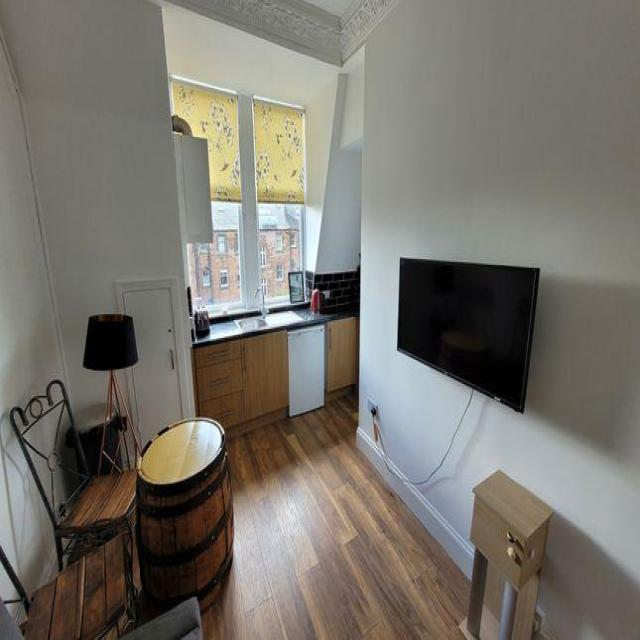Wall: (360, 0, 640, 637), (0, 1, 184, 590), (202, 392, 467, 639), (163, 0, 396, 273), (304, 1, 354, 16)
